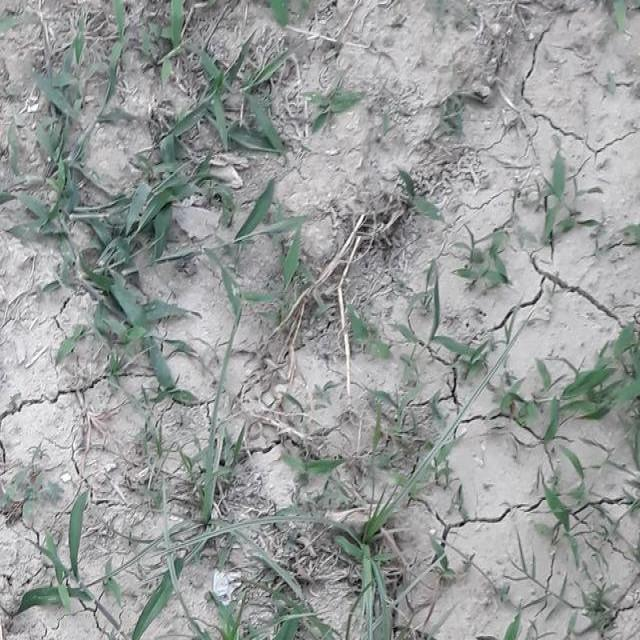weed: (36, 79, 186, 358), (312, 497, 413, 640), (156, 450, 272, 558), (499, 548, 616, 640), (190, 63, 289, 157), (16, 508, 94, 624), (537, 368, 636, 445), (229, 192, 310, 256), (418, 302, 484, 373), (544, 160, 590, 237)
